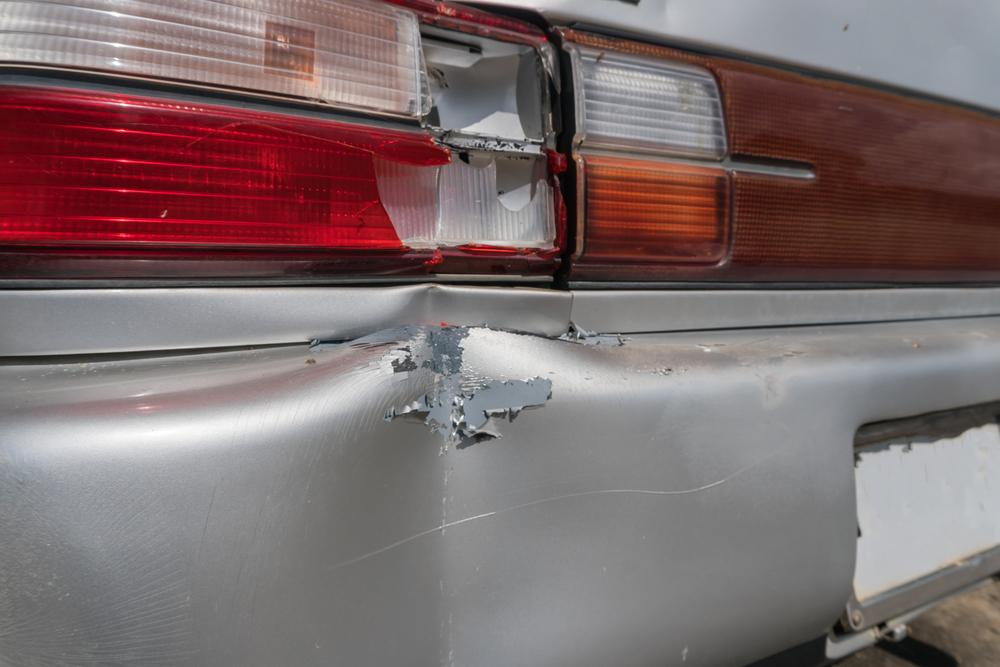dent: (381, 288, 561, 653)
lamp broken: (0, 0, 580, 281)
